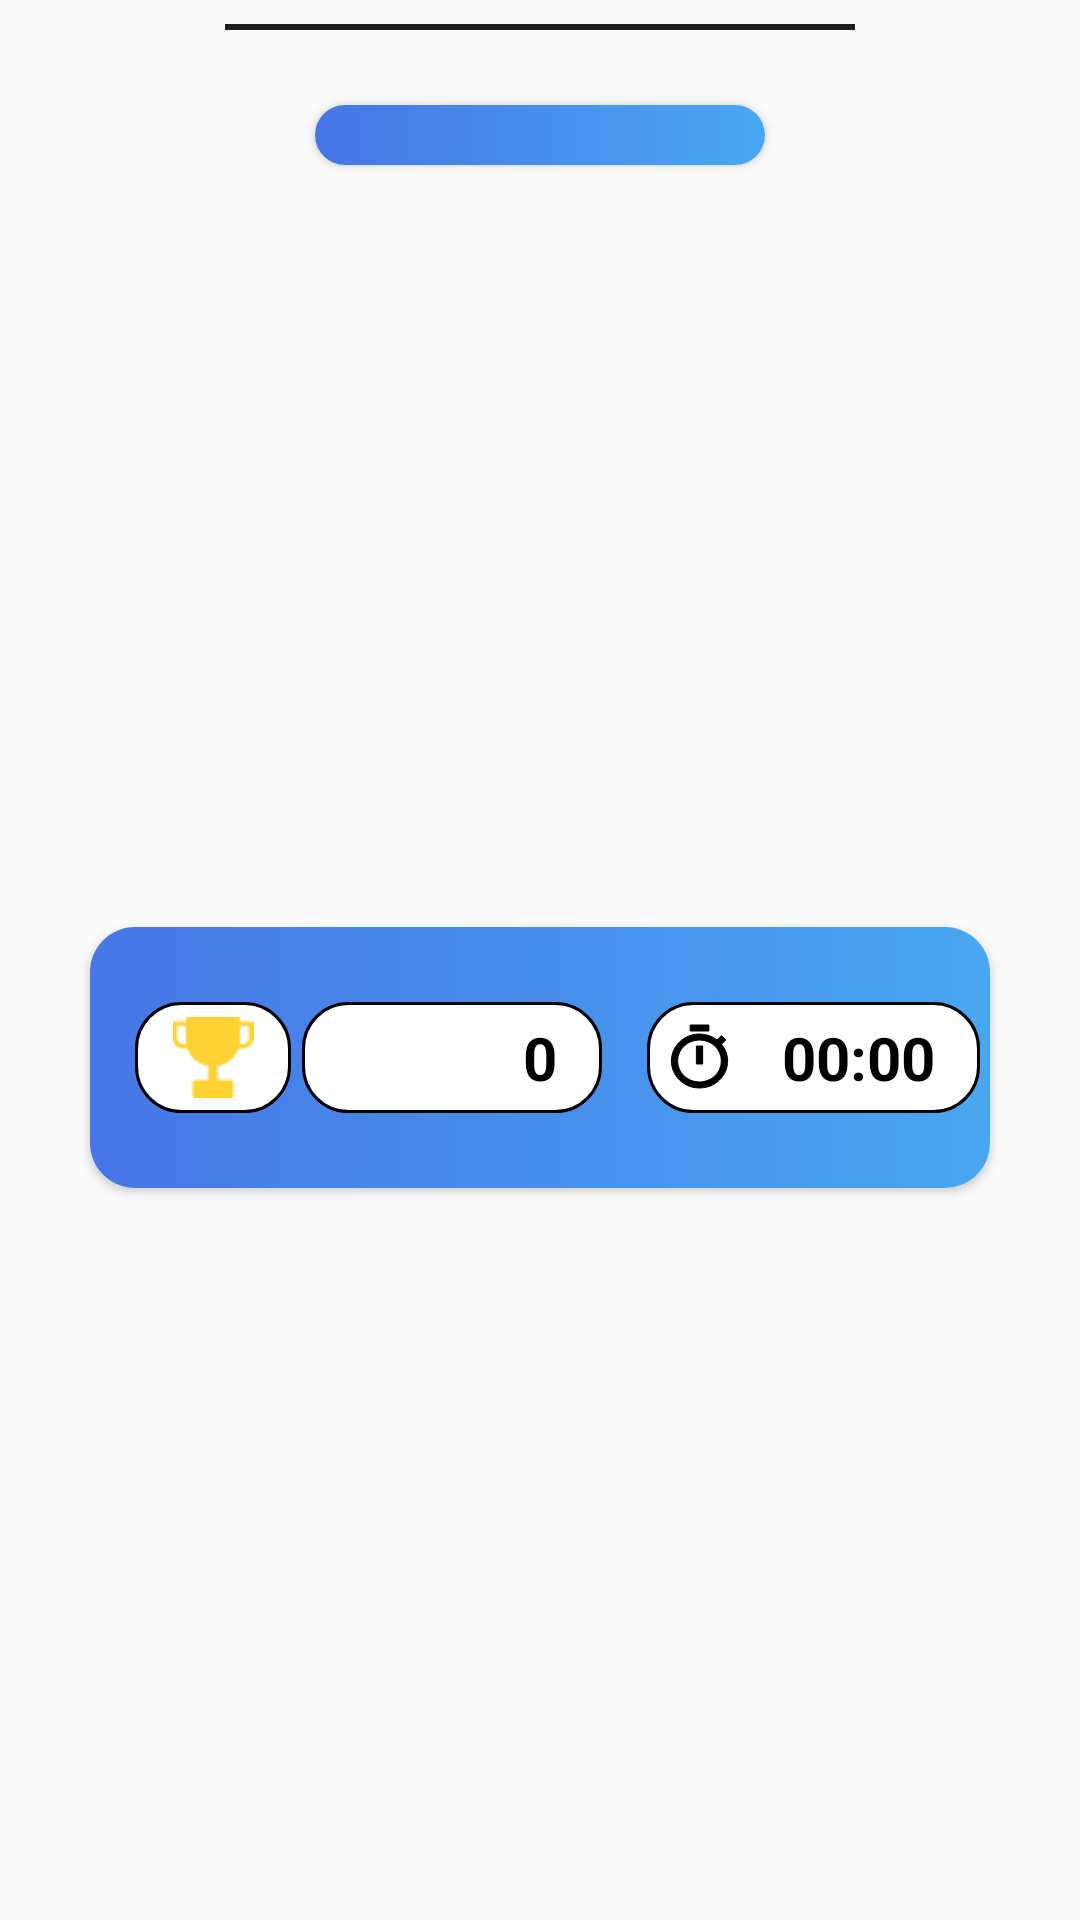

Screen size 1080x1920. Icon name, then its box in pixels as (x1, y1, x2, y2):
timer: (647, 1002, 752, 1113)
